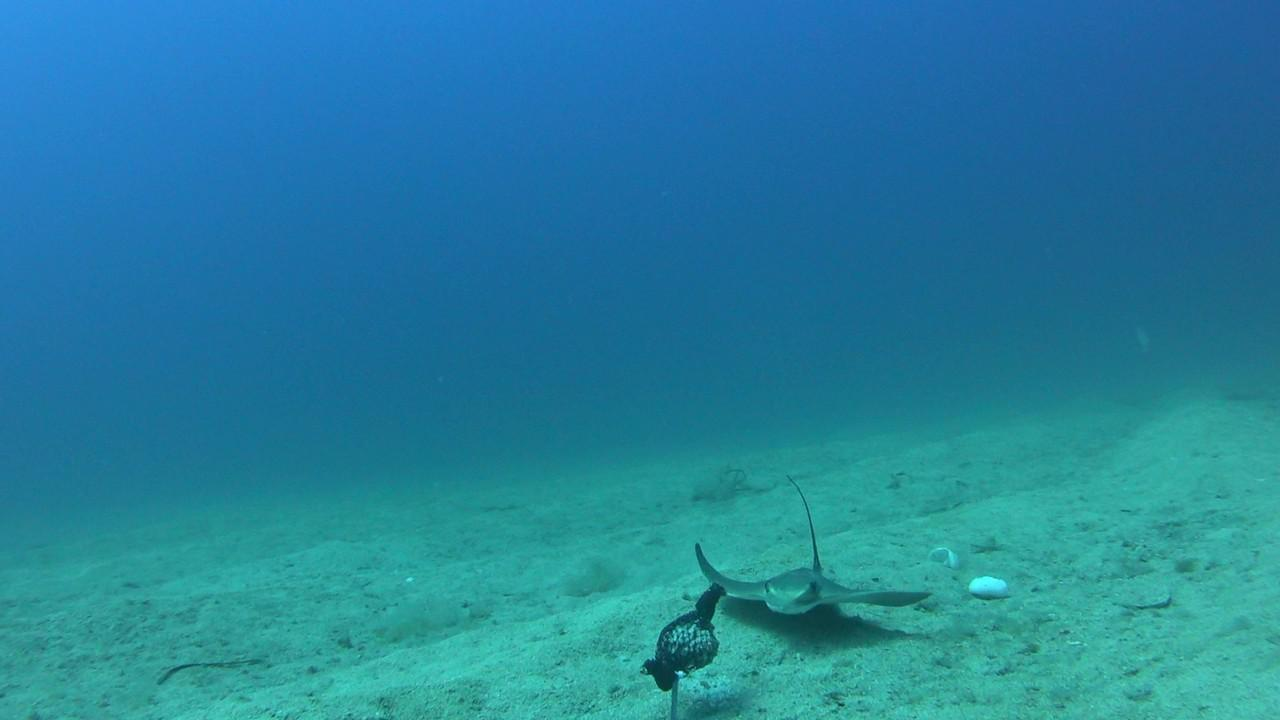myliobatis: (689, 463, 939, 627)
